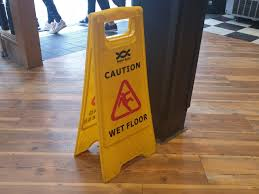wet caution sign: (68, 4, 157, 167)
